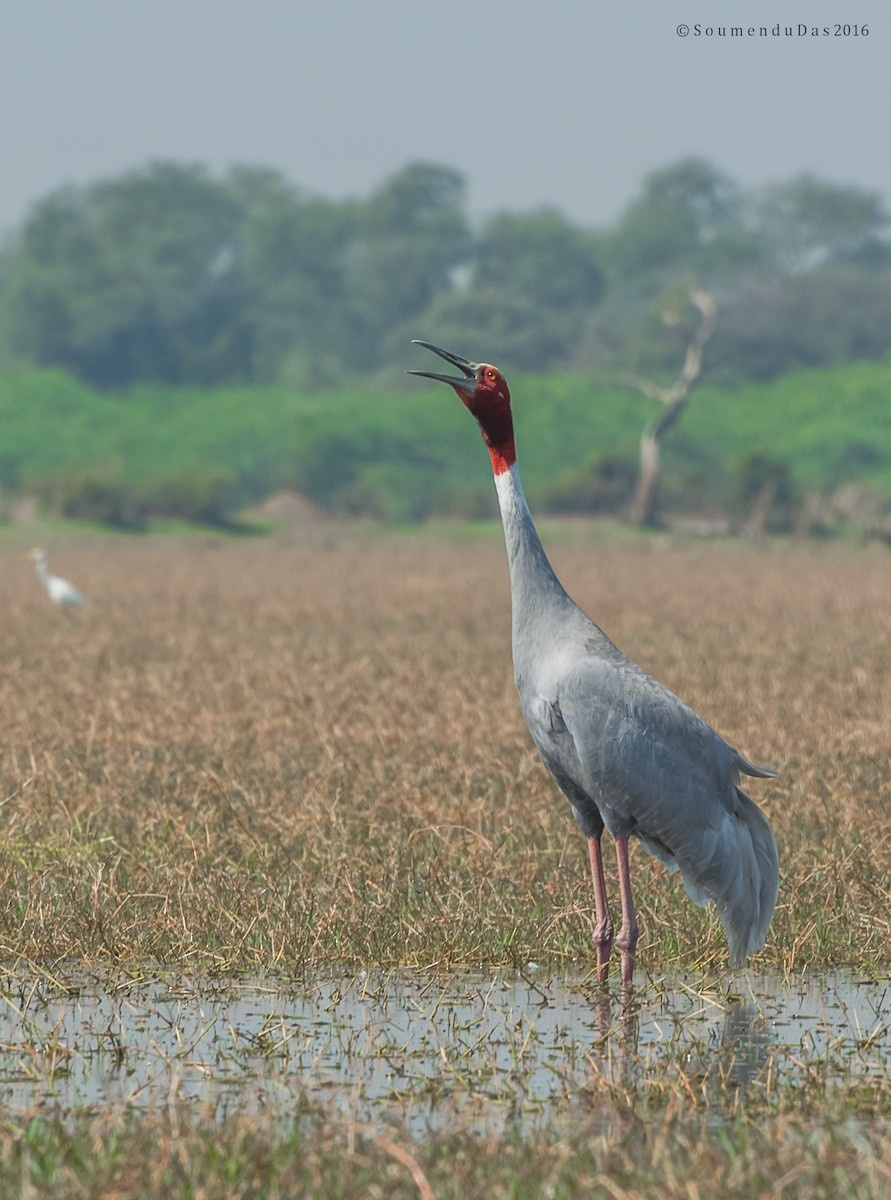crane: (402, 329, 826, 1097)
